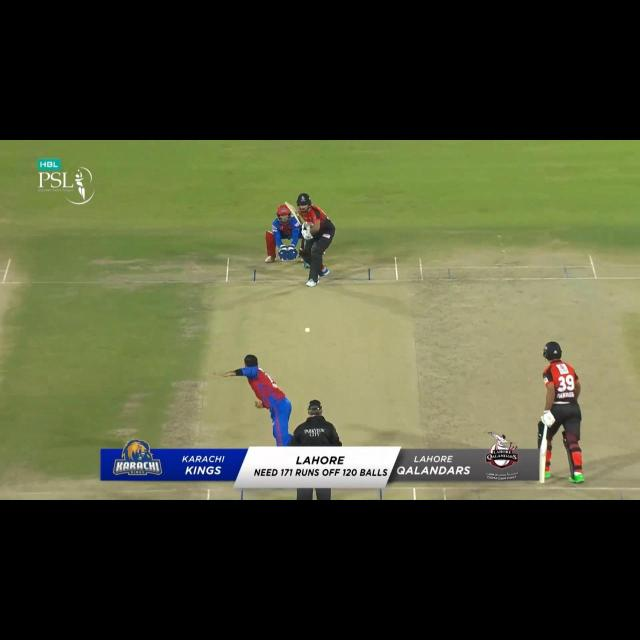bat: (286, 201, 303, 226), (538, 440, 547, 484)
toe: (286, 200, 292, 210), (539, 475, 547, 482)
